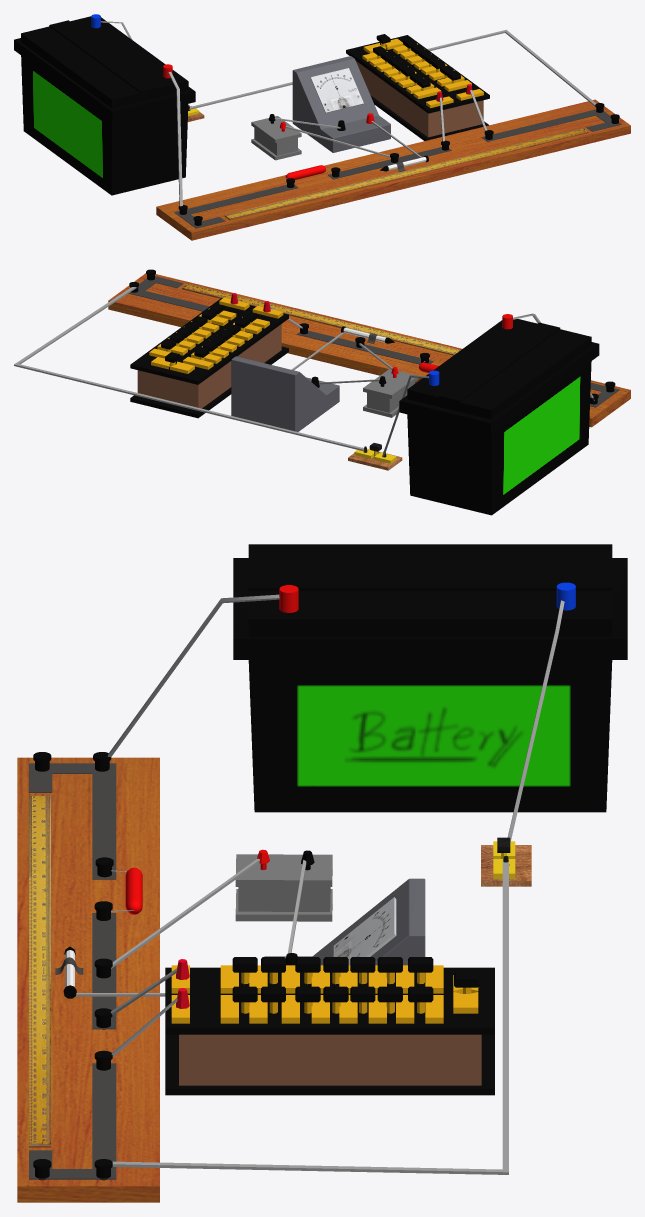
Rendered from exp 2.fbx.
3 renders of one model, top to bottom at view 1: azimuth 30°, elevation 25°; view 2: azimuth 150°, elevation 25°; view 3: azimuth 270°, elevation 25°, orthographic. The views are drawn at different scales.
Visible parts, largest first — view 1: polySurface46, pCube48, polySurface165, polySurface2, polySurface170, Box005, Box003, Box008, pCube35, pCylinder25, pCube45, pCube36; view 2: polySurface46, polySurface165, pCube48, polySurface2, polySurface170, pCube35, pCube50, Box008, pCube36, Box005, pCylinder25; view 3: polySurface46, pCube48, polySurface165, polySurface170, polySurface2, Box005, Box003, pCube36, pCube35, Box008, pCube50, pCube45 (+3 smaller).
Part boxes in pixels (x1=…): polySurface46: x1=14, y1=14, x2=195, y2=195; pCube48: x1=156, y1=99, x2=630, y2=240; polySurface165: x1=346, y1=34, x2=489, y2=140; polySurface2: x1=292, y1=56, x2=390, y2=152; polySurface170: x1=251, y1=114, x2=301, y2=160; Box005: x1=481, y1=111, x2=595, y2=141; Box003: x1=174, y1=184, x2=298, y2=216; Box008: x1=328, y1=147, x2=451, y2=179; pCube35: x1=189, y1=30, x2=506, y2=109; pCylinder25: x1=285, y1=155, x2=428, y2=179; pCube45: x1=168, y1=72, x2=182, y2=206; pCube36: x1=505, y1=30, x2=596, y2=106; polySurface46: x1=399, y1=314, x2=599, y2=515; polySurface165: x1=130, y1=293, x2=288, y2=418; pCube48: x1=108, y1=269, x2=630, y2=427; polySurface2: x1=231, y1=356, x2=339, y2=431; polySurface170: x1=363, y1=367, x2=418, y2=417; pCube35: x1=14, y1=363, x2=364, y2=451; pCube50: x1=348, y1=443, x2=402, y2=470; Box008: x1=296, y1=330, x2=433, y2=364; pCube36: x1=14, y1=287, x2=137, y2=366; Box005: x1=138, y1=291, x2=209, y2=311; pCylinder25: x1=341, y1=326, x2=438, y2=372; polySurface46: x1=233, y1=544, x2=627, y2=812; pCube48: x1=17, y1=752, x2=159, y2=1202; polySurface165: x1=165, y1=957, x2=494, y2=1095; polySurface170: x1=235, y1=849, x2=332, y2=921; polySurface2: x1=264, y1=878, x2=425, y2=965; Box005: x1=92, y1=1063, x2=116, y2=1179; Box003: x1=92, y1=773, x2=116, y2=879; pCube36: x1=112, y1=1161, x2=508, y2=1174; pCube35: x1=502, y1=861, x2=508, y2=1171; Box008: x1=92, y1=913, x2=116, y2=1029; pCube50: x1=481, y1=837, x2=531, y2=886; pCube45: x1=107, y1=594, x2=279, y2=757.
Bounding box in the file's own units: 75.73 × 18.87 × 43.08.
